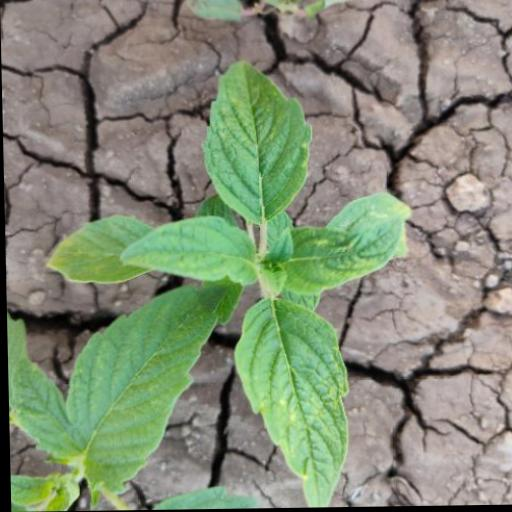crop: (13, 30, 457, 512)
